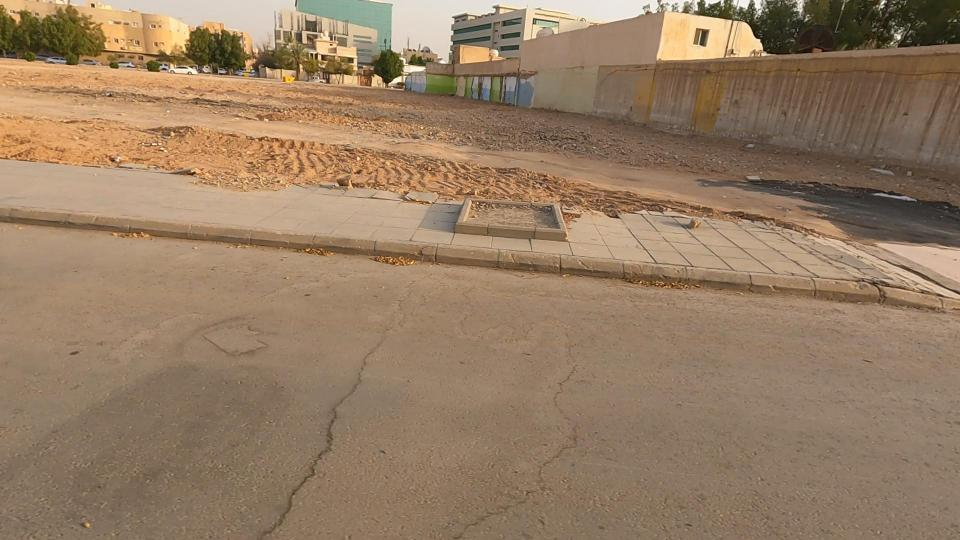GARBAGE: (846, 178, 950, 227), (711, 154, 783, 199), (850, 150, 919, 195)
